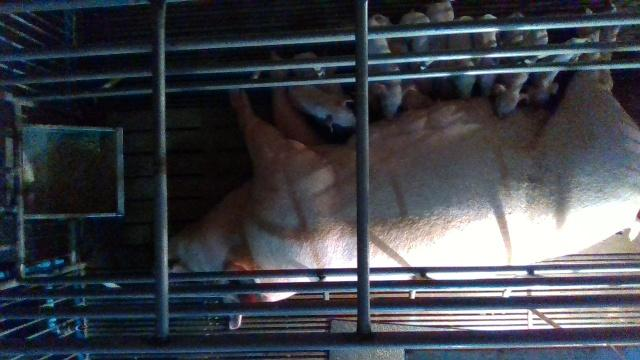piglet: (368, 13, 415, 121), (496, 26, 548, 119), (525, 38, 590, 106), (285, 85, 358, 135), (451, 15, 478, 98), (480, 13, 502, 96), (429, 0, 455, 68), (404, 12, 433, 72)
sow-sleep-lactate: (169, 28, 640, 329)
